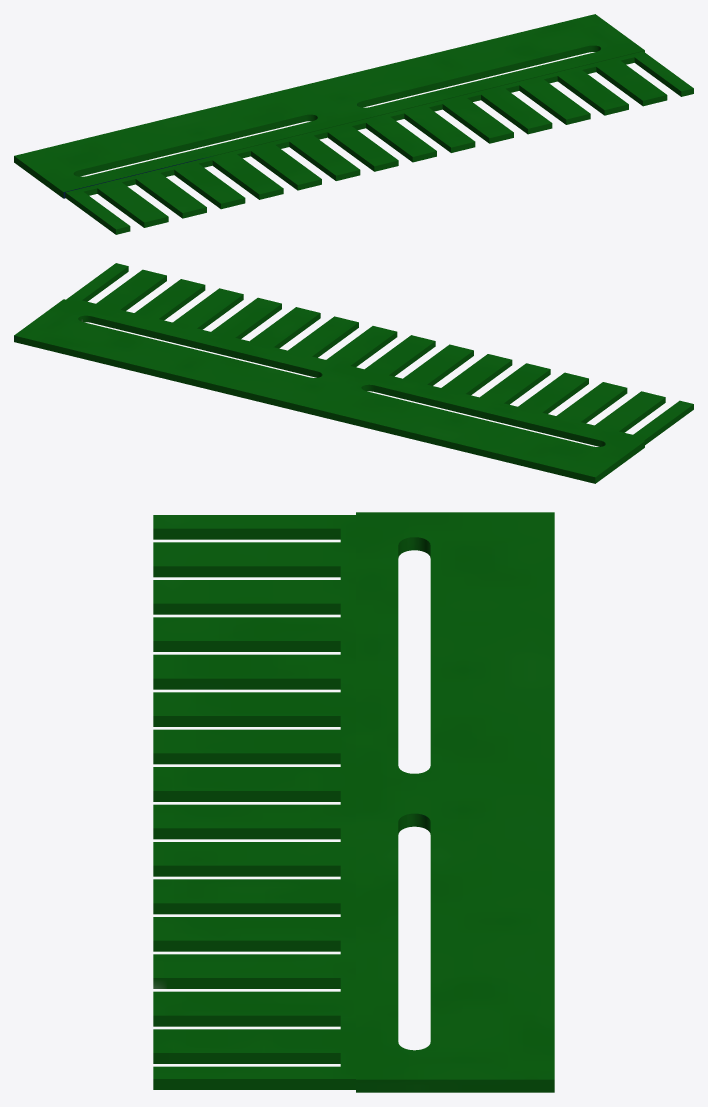
3 renders of one model, top to bottom at view 1: azimuth 30°, elevation 25°; view 2: azimuth 150°, elevation 25°; view 3: azimuth 270°, elevation 25°, orthographic. The views are drawn at different scales.
Parts seen in each view (by area): view 1: 低梳齿; view 2: 低梳齿; view 3: 低梳齿.
Part boxes in pixels (x1,y1,x2,y2): 低梳齿: (14,14,693,234); 低梳齿: (14,263,693,483); 低梳齿: (153,512,554,1092).
Bounding box in the file's own units: 0.00307 × 3.31e-05 × 0.000917.
1 material, 1 textured.
